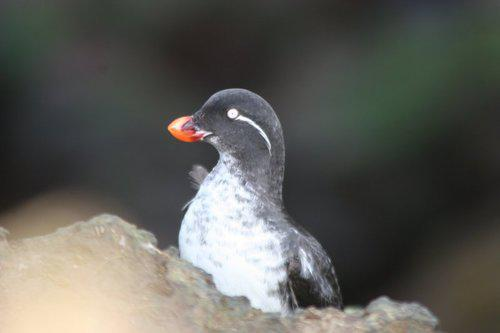007.Parakeet_Auklet: (162, 86, 344, 318)
